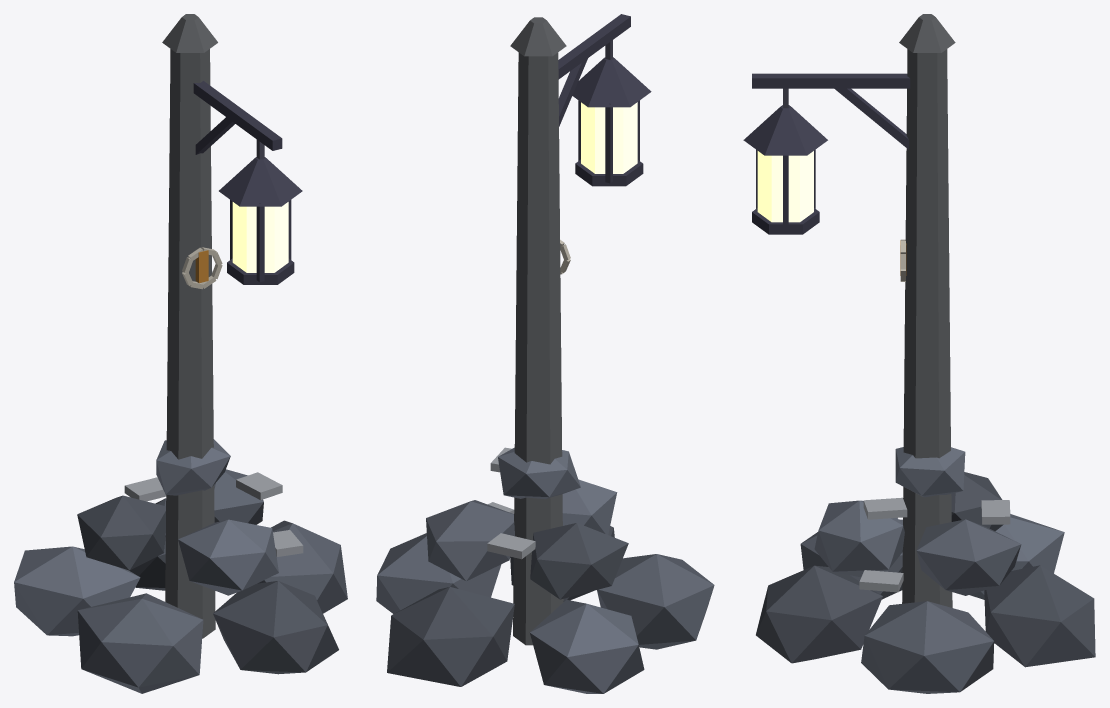
The model's file is waymark_lit.glb.
The picture shows the model from 3 angles, left to right: view 1: azimuth 30°, elevation 25°; view 2: azimuth 150°, elevation 25°; view 3: azimuth 270°, elevation 25°; orthographic projection.
Visible parts, largest first — view 1: silverfog_d50, slate_d5, slate_d15, slate_d30, ink_l15, kindle_glow, silverfog_d20, silverfog_d55, bone_d20; view 2: silverfog_d50, slate_d15, slate_d30, slate_d5, ink_l15, kindle_glow, silverfog_d55, silverfog_d20; view 3: silverfog_d50, slate_d30, slate_d15, slate_d5, ink_l15, kindle_glow, silverfog_d20, silverfog_d55.
Boxes of the visible parts, left/top/right/bottom form: silverfog_d50: left=165, top=49, right=215, bottom=638; slate_d5: left=14, top=439, right=278, bottom=636; slate_d15: left=77, top=469, right=347, bottom=693; slate_d30: left=77, top=495, right=338, bottom=674; ink_l15: left=193, top=81, right=302, bottom=284; kindle_glow: left=232, top=202, right=288, bottom=272; silverfog_d20: left=124, top=472, right=303, bottom=556; silverfog_d55: left=162, top=14, right=217, bottom=52; bone_d20: left=182, top=247, right=222, bottom=289; silverfog_d50: left=513, top=52, right=563, bottom=645; slate_d15: left=376, top=500, right=714, bottom=649; slate_d30: left=387, top=523, right=628, bottom=686; slate_d5: left=498, top=447, right=644, bottom=693; ink_l15: left=558, top=14, right=651, bottom=186; kindle_glow: left=581, top=102, right=637, bottom=173; silverfog_d55: left=510, top=17, right=566, bottom=56; silverfog_d20: left=487, top=447, right=535, bottom=559; silverfog_d50: left=902, top=49, right=952, bottom=607; slate_d30: left=756, top=472, right=1095, bottom=667; slate_d15: left=800, top=519, right=1021, bottom=693; slate_d5: left=814, top=447, right=1064, bottom=599; ink_l15: left=743, top=73, right=910, bottom=234; kindle_glow: left=757, top=151, right=813, bottom=222; silverfog_d20: left=859, top=497, right=1010, bottom=592; silverfog_d55: left=899, top=14, right=955, bottom=52.
Size of the model in its own units: 1.18 by 2.47 by 1.24.
